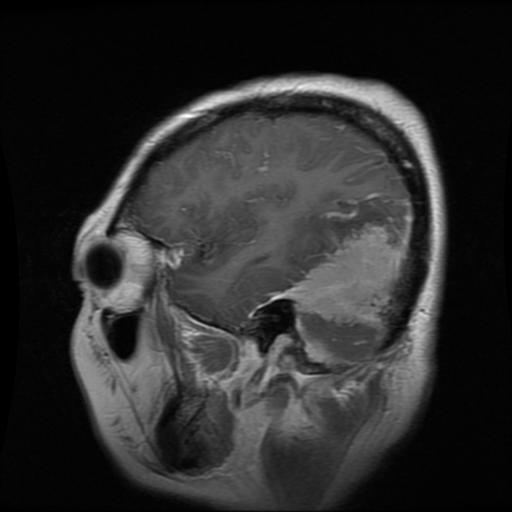Menigiomia_tumour: (280, 223, 402, 330)
